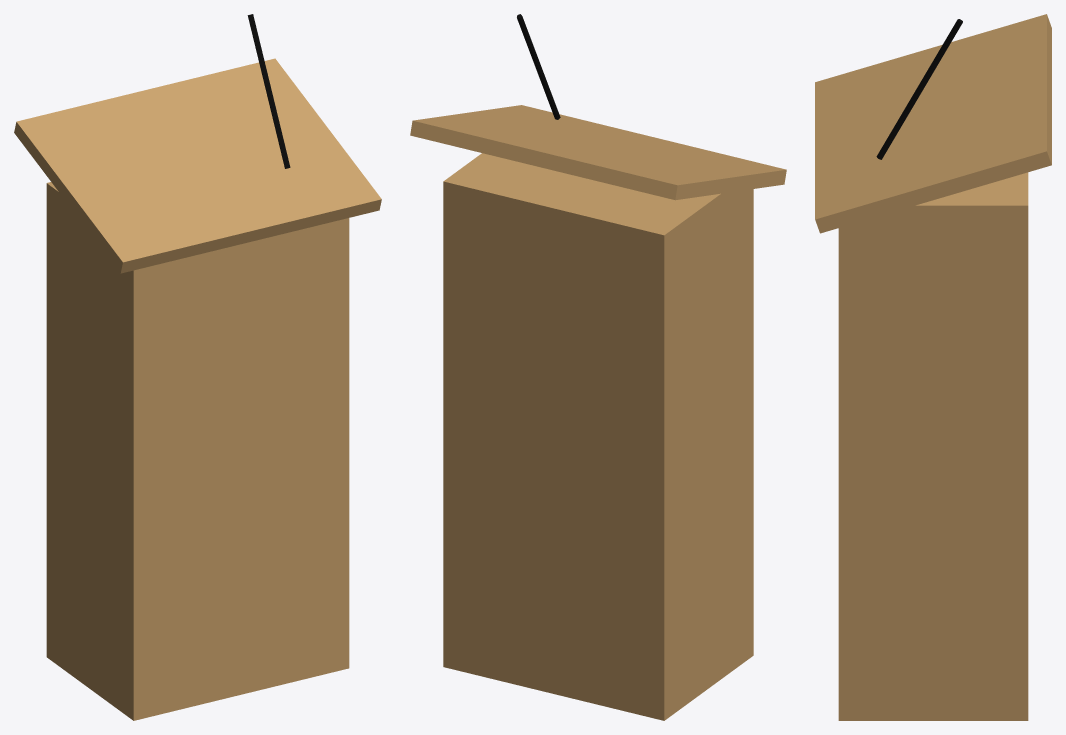
Rendered from hospitality.function.lectern.glb.
3 renders of one model, left to right at view 1: azimuth 30°, elevation 25°; view 2: azimuth 150°, elevation 25°; view 3: azimuth 270°, elevation 25°, orthographic. The views are drawn at different scales.
Parts seen in each view (by area): view 1: main__glulam, main__plastic_black; view 2: main__glulam, main__plastic_black; view 3: main__glulam, main__plastic_black.
Part boxes in pixels (left/top/right/bottom): main__glulam: left=14, top=58, right=381, bottom=720; main__plastic_black: left=247, top=14, right=290, bottom=168; main__glulam: left=410, top=105, right=786, bottom=720; main__plastic_black: left=517, top=14, right=560, bottom=119; main__glulam: left=815, top=14, right=1051, bottom=720; main__plastic_black: left=876, top=19, right=962, bottom=159.
Bounding box in the file's own units: 0.6 × 1.38 × 0.4372.
